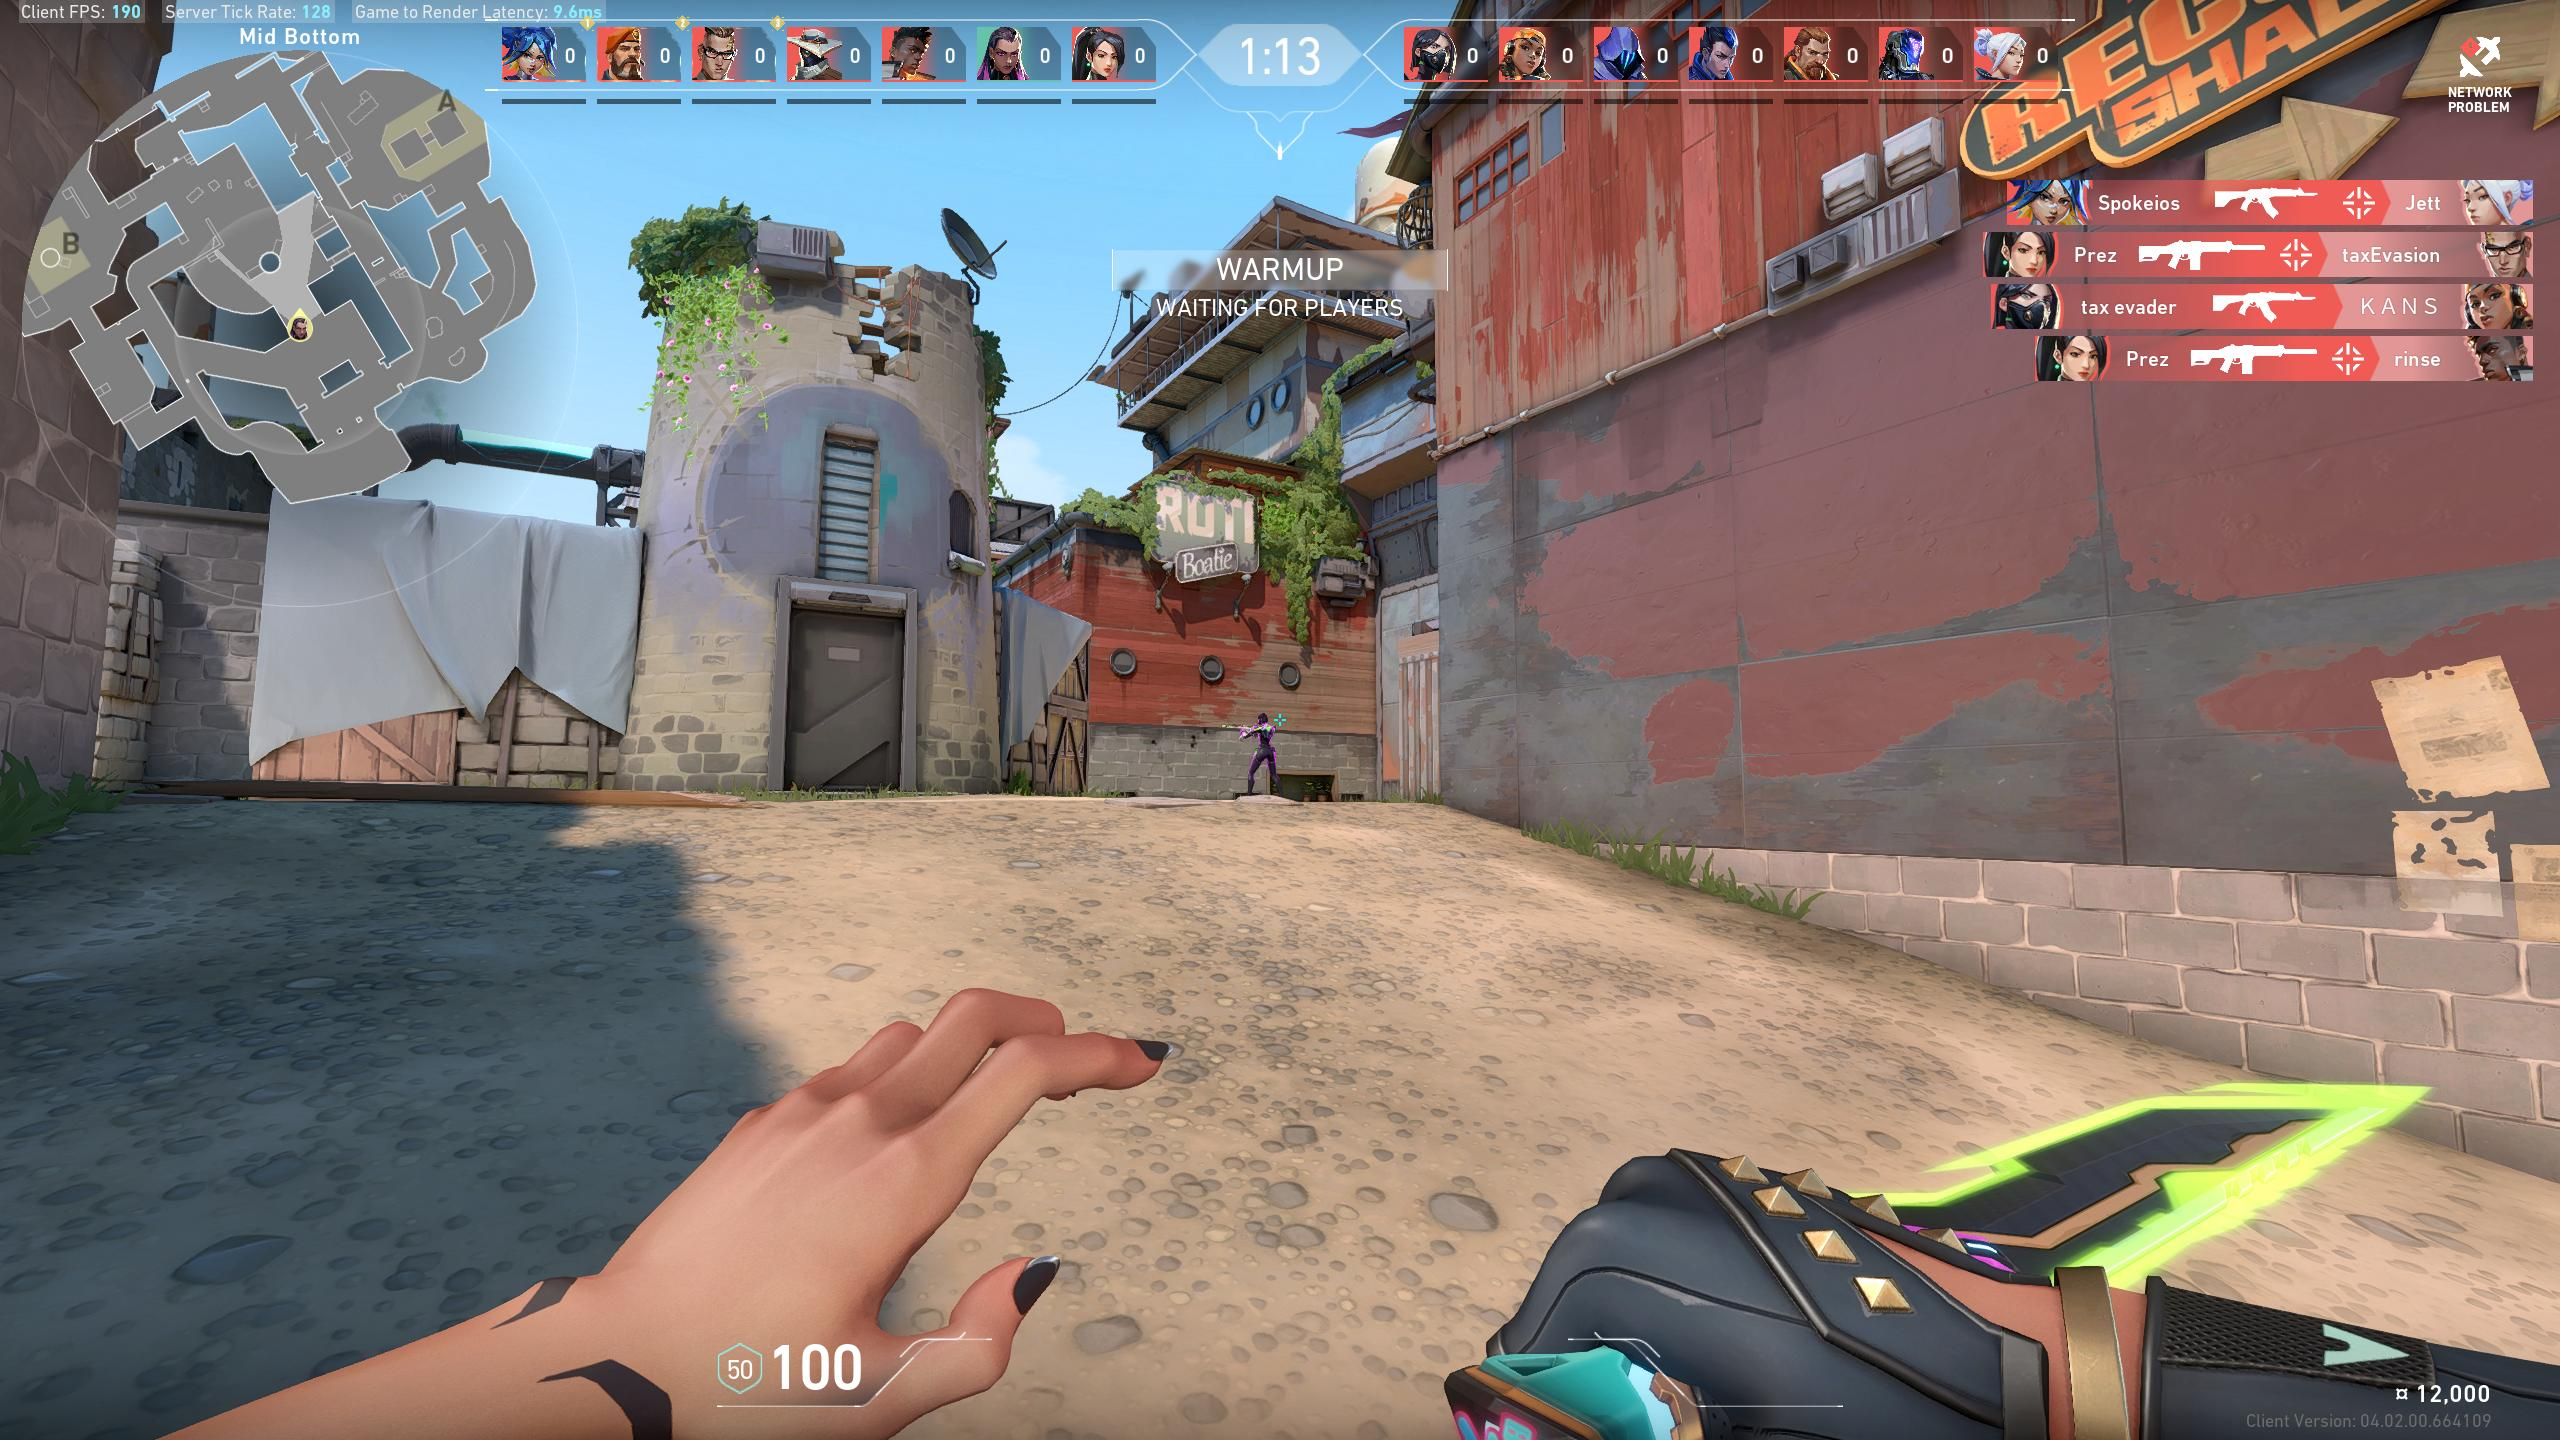enemyBody: (1257, 726, 1271, 744)
enemyHead: (1257, 716, 1268, 724)
